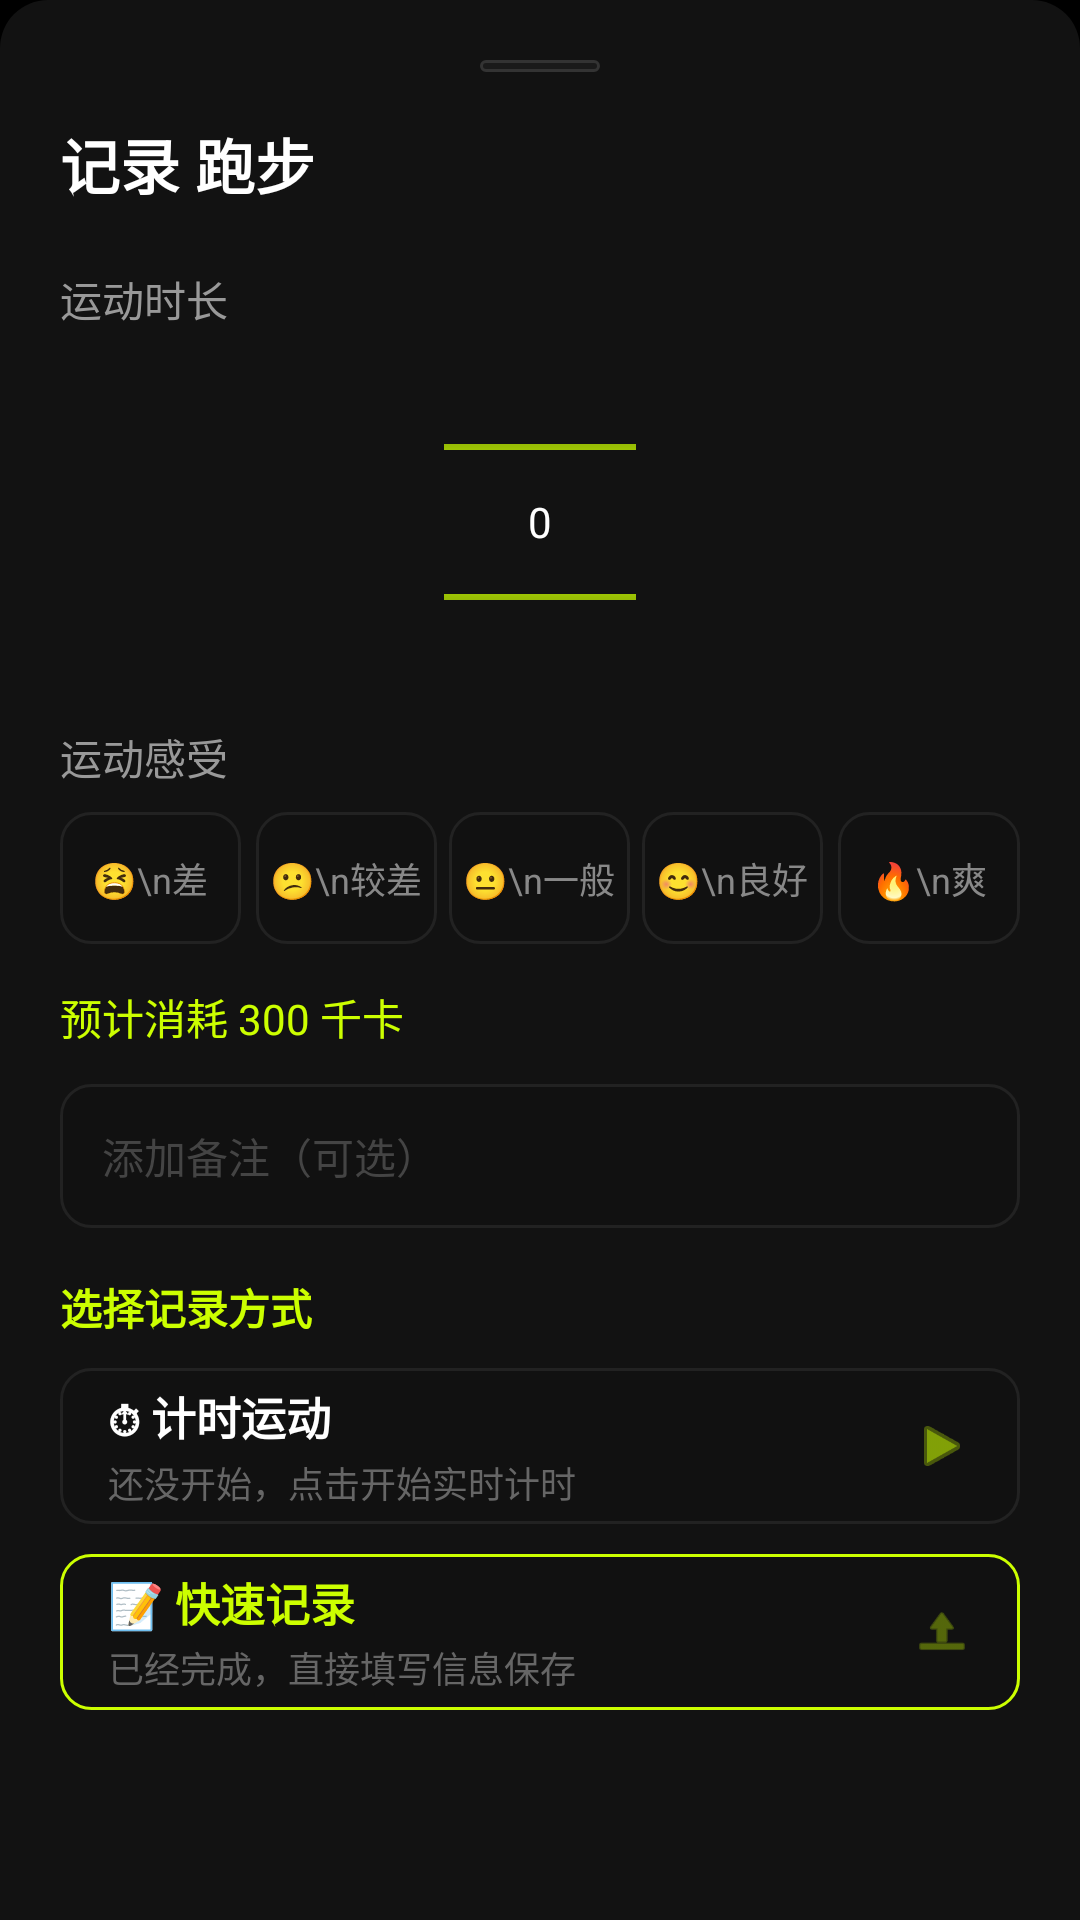

Screen size 1080x1920. Icon name, then its center in pixels as point (x, y):
play: point (942, 1446)
upload: point (942, 1631)
